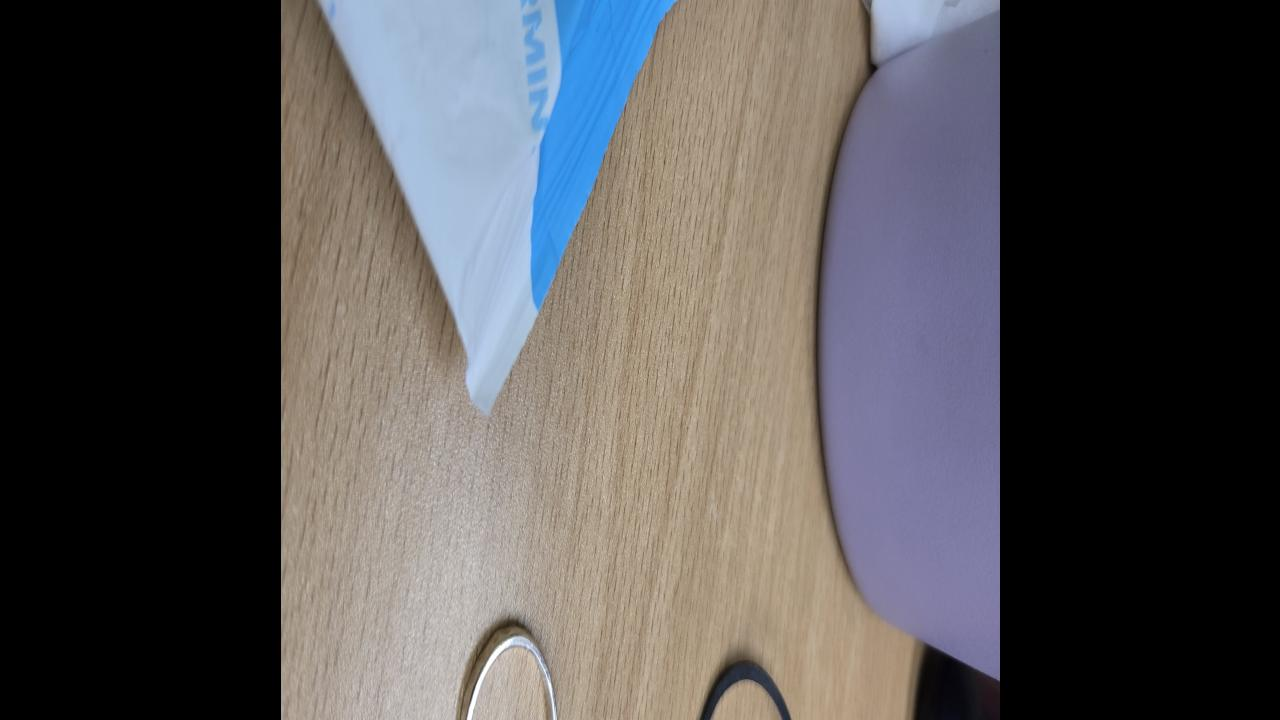ring: (453, 619, 558, 720)
